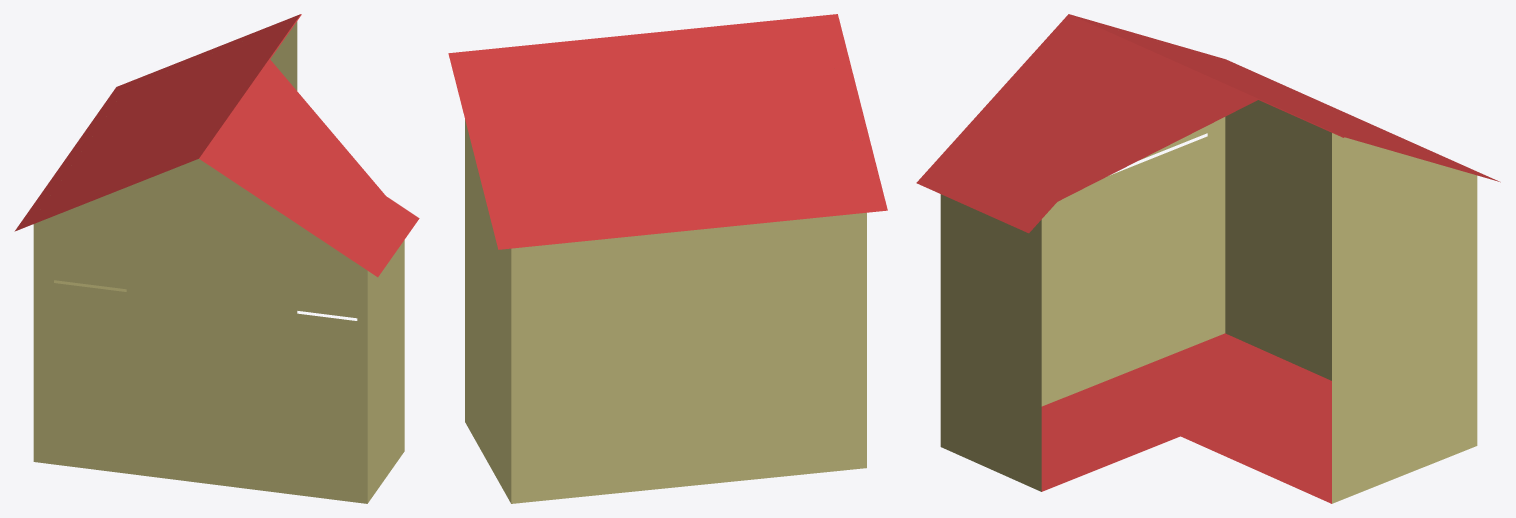
3 renders of one model, left to right at view 1: azimuth 30°, elevation 25°; view 2: azimuth 150°, elevation 25°; view 3: azimuth 270°, elevation 25°, orthographic. The views are drawn at different scales.
Size of the model in its own units: 12.67 by 16.83 by 11.79.
